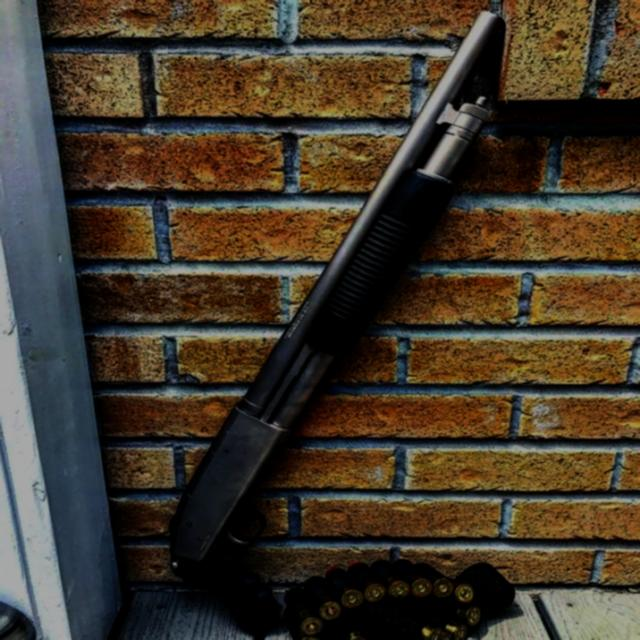shotgun: (155, 2, 547, 640)
